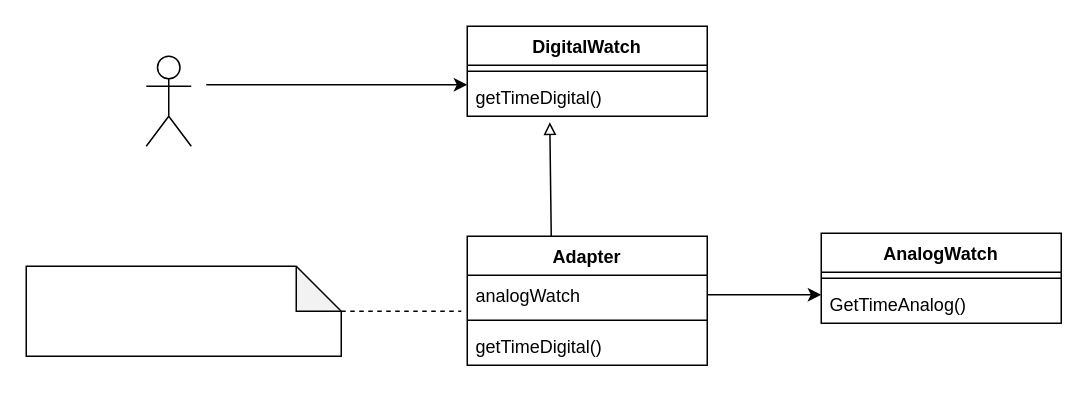
This 1088x396 diagram has some shape labels left out. The centre of each missing label's shape, as x and y in pixels:
"AnalogWatch -> GetTimeAnalog()" goes at point 183,310.
"Клиент" goes at point 168,100.
